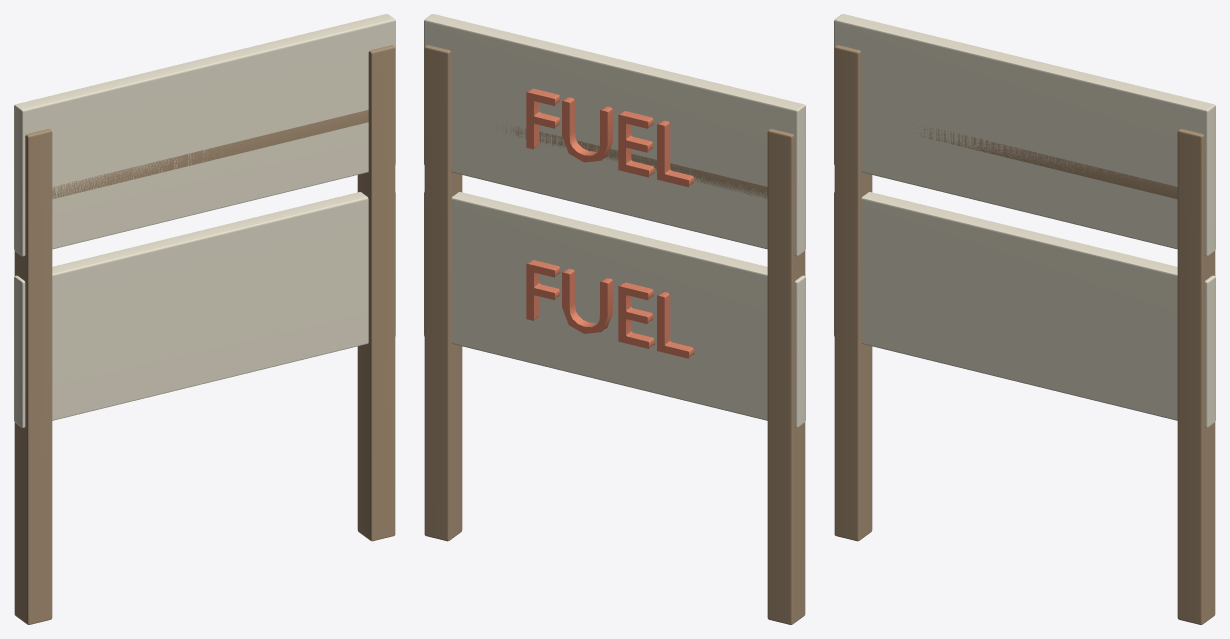
The model's file is fuel_billboard.glb.
3 views of the same model, side by side, from view 1: azimuth 30°, elevation 25°; view 2: azimuth 150°, elevation 25°; view 3: azimuth 330°, elevation 25° (orthographic).
Parts seen in each view (by area): view 1: fuel_billboard; view 2: fuel_billboard; view 3: fuel_billboard.
Boxes of the visible parts, x1,y1,x2,y2 form: fuel_billboard: [14, 14, 395, 624]; fuel_billboard: [424, 14, 805, 624]; fuel_billboard: [834, 14, 1215, 624].
Bounding box in the file's own units: 2.4 × 3.15 × 0.19.
